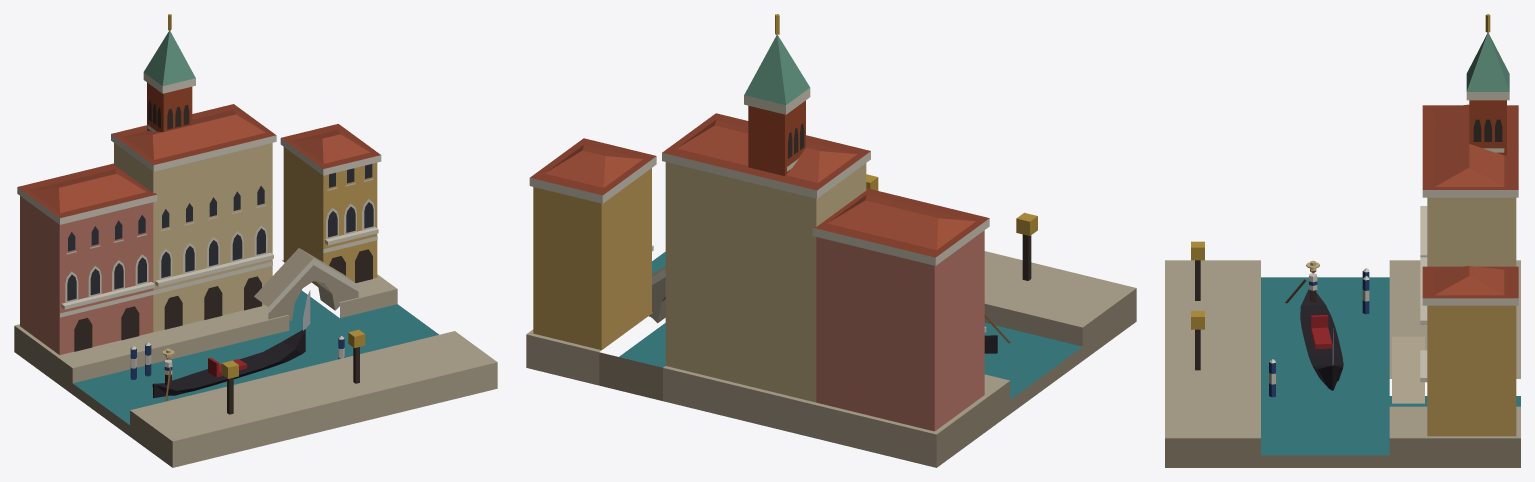
File: gondole.glb
The picture shows the model from 3 angles, left to right: view 1: azimuth 30°, elevation 25°; view 2: azimuth 150°, elevation 25°; view 3: azimuth 270°, elevation 25°; orthographic projection. The views are drawn at different scales.
Parts seen in each view (by area): view 1: gondole; view 2: gondole; view 3: gondole.
Boxes of the visible parts, box(x1,y1,x2,y2) form: gondole: box(14, 14, 497, 467); gondole: box(526, 14, 1136, 467); gondole: box(1165, 14, 1520, 467).
Size of the model in its own units: 1.8 by 1.66 by 1.52.
